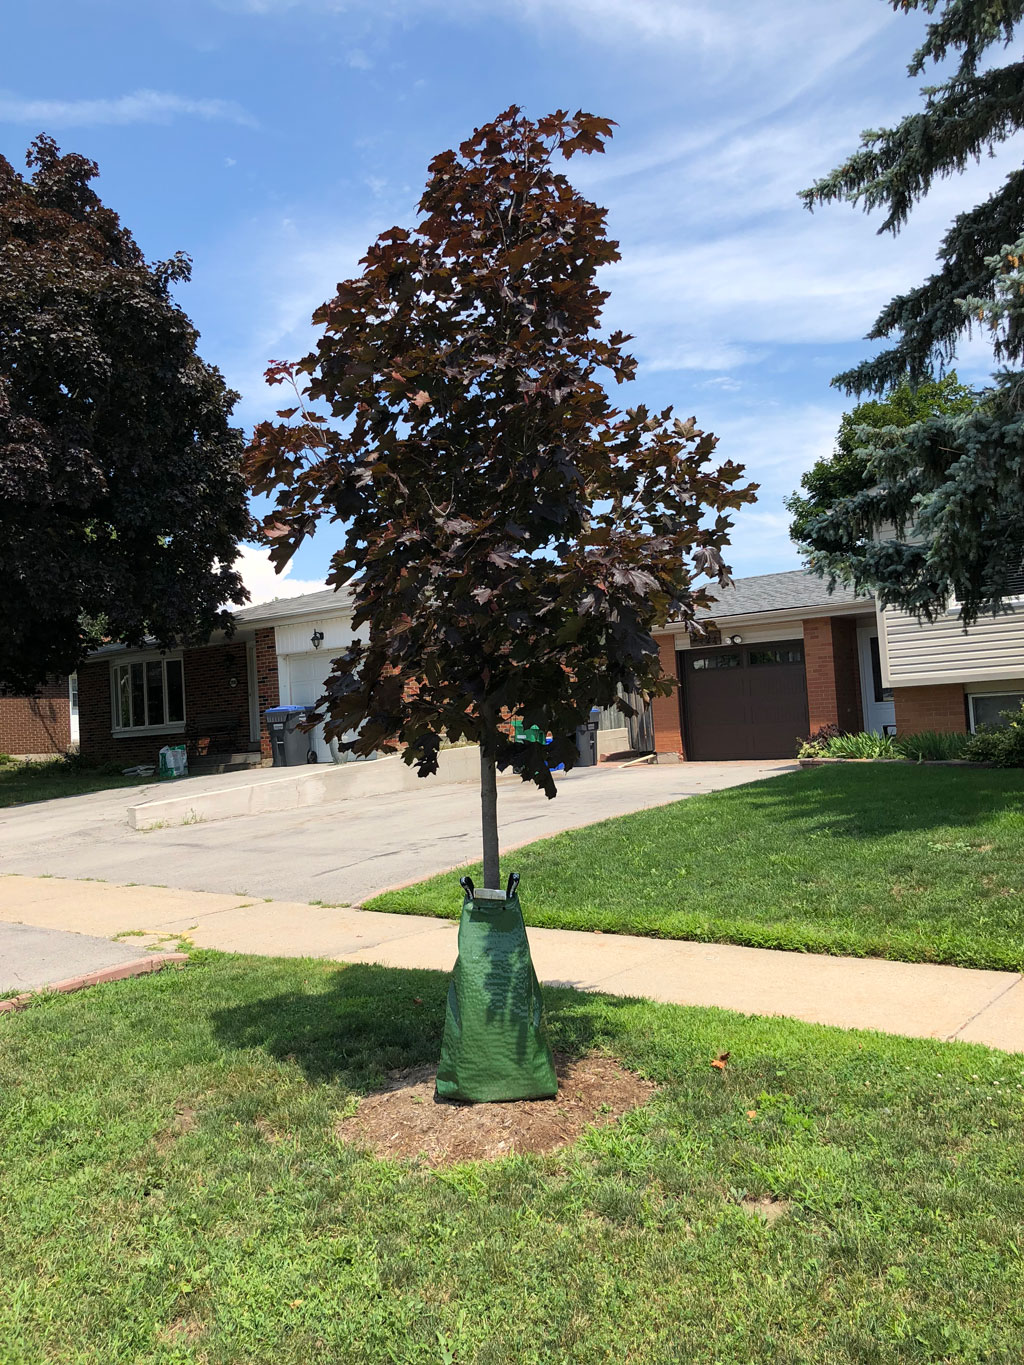tree: (237, 98, 762, 1105), (1, 130, 252, 703)
